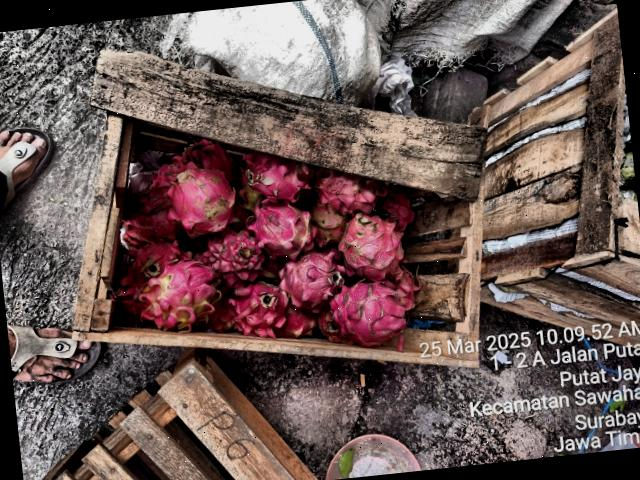buah-naga-belum-matang: (139, 256, 227, 333), (337, 208, 404, 277), (247, 196, 316, 260), (309, 192, 351, 246)
buah-naga-matang: (327, 274, 412, 348), (164, 164, 243, 238), (312, 156, 386, 222), (241, 144, 315, 206), (224, 277, 292, 341), (278, 248, 346, 311), (202, 228, 273, 288), (125, 238, 196, 286), (313, 306, 347, 348)
